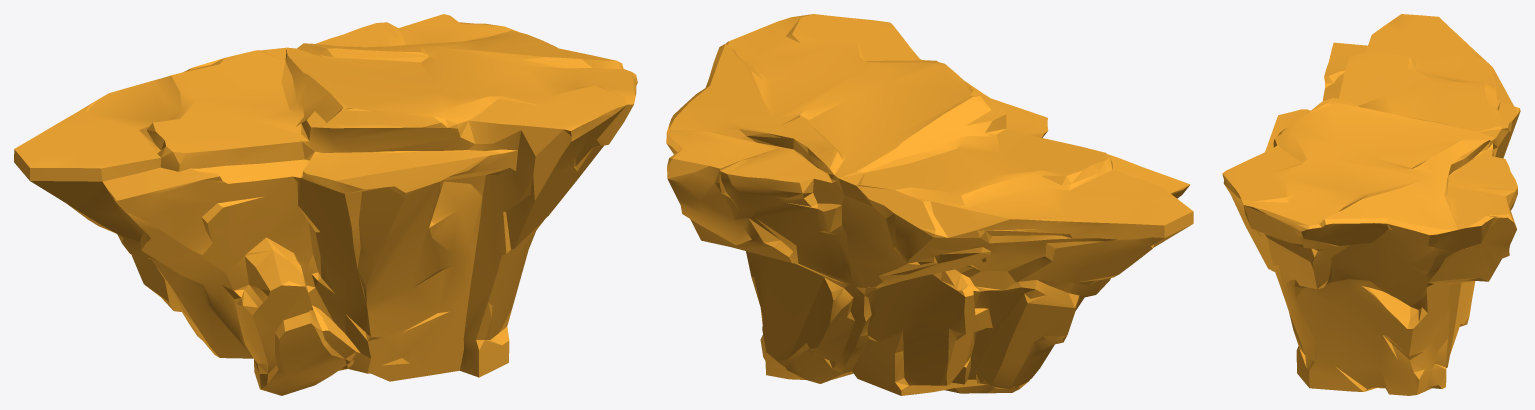
The model's file is SM_Iceberg_Medium_D_Plane.fbx.
3 views of the same model, side by side, from view 1: azimuth 30°, elevation 25°; view 2: azimuth 150°, elevation 25°; view 3: azimuth 270°, elevation 25° (orthographic). The views are drawn at different scales.
Parts seen in each view (by area): view 1: iceberg-medium-d-plane; view 2: iceberg-medium-d-plane; view 3: iceberg-medium-d-plane.
Part boxes in pixels (x1=…): iceberg-medium-d-plane: x1=14, y1=14, x2=637, y2=395; iceberg-medium-d-plane: x1=666, y1=14, x2=1193, y2=395; iceberg-medium-d-plane: x1=1222, y1=14, x2=1520, y2=395.
Bounding box in the file's own units: 14.57 × 7.3 × 8.48.
